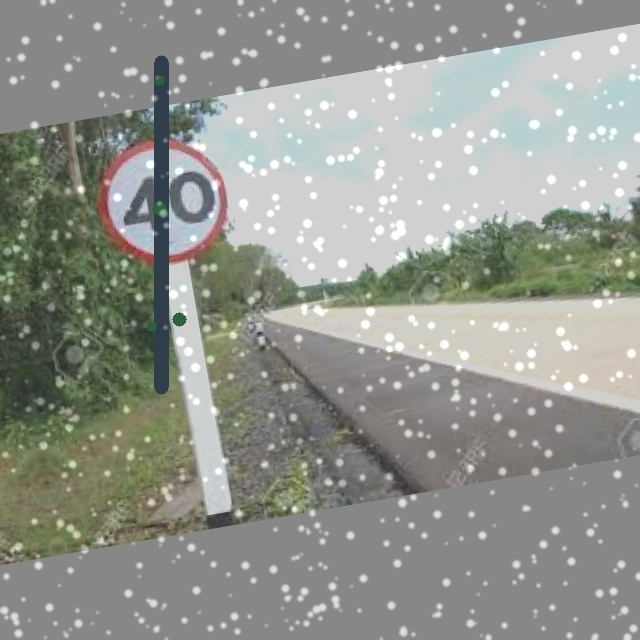Speed_Limit_40: (92, 123, 236, 271)
